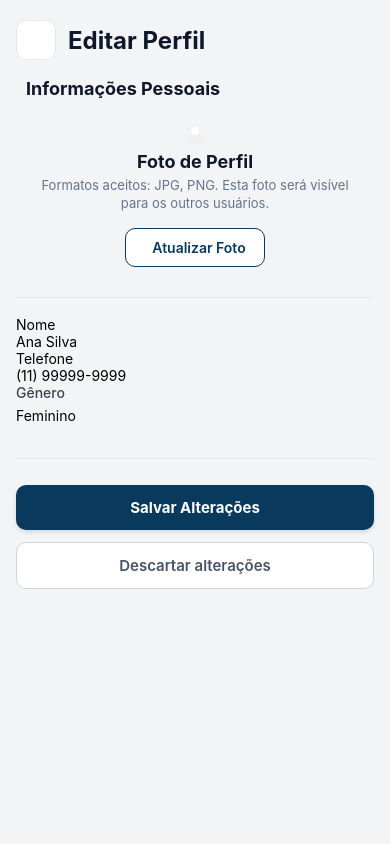
Test: EditUserScreen › desfaz alteração local retornando aos dados carregados
The width and height of the screenshot is (390, 844).
Replace the text in the field showing "Ana Silva" below "Nome" with "Outro nome". click: {"x": 195, "y": 342}
box: [16,333,374,350]
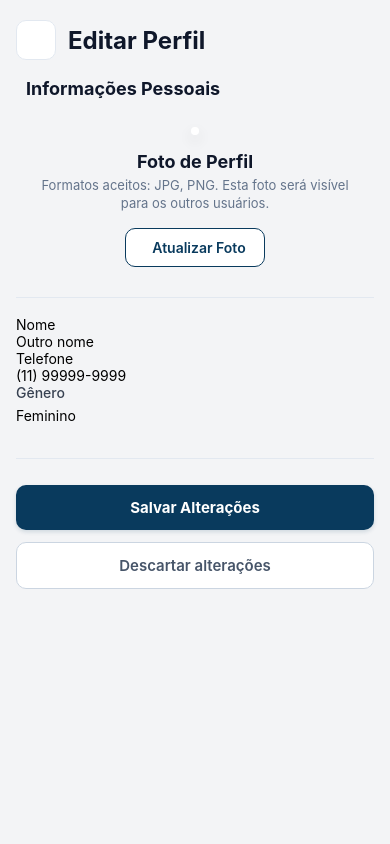
Click the text "Descartar alterações". click: {"x": 195, "y": 566}
box: [119,556,271,575]
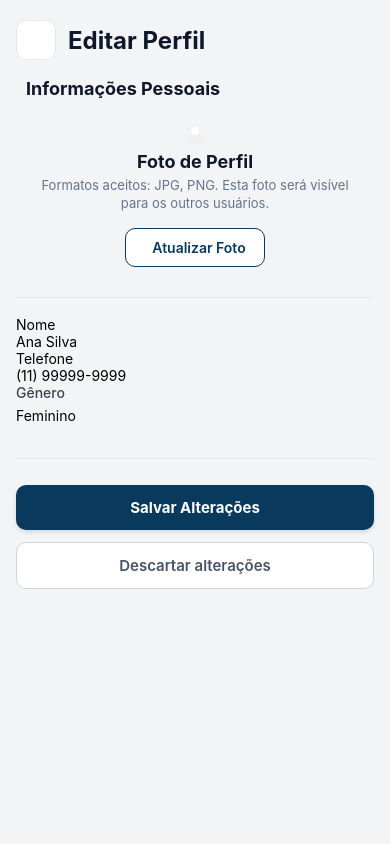
Expected: the field showing "Ana Silva" below "Nome" is shown, [16,333,374,350]
